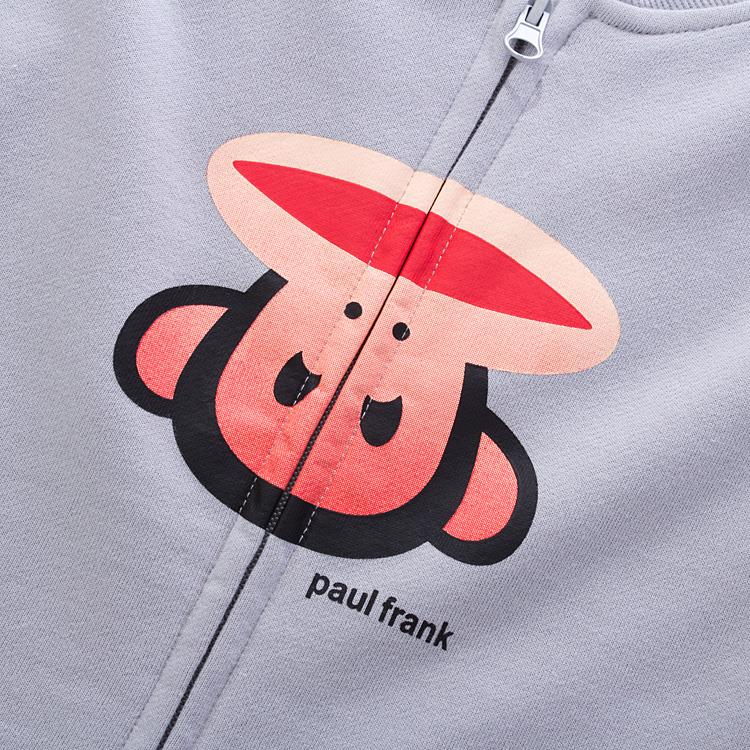Paul_Frank_Julius: (107, 125, 622, 563)
